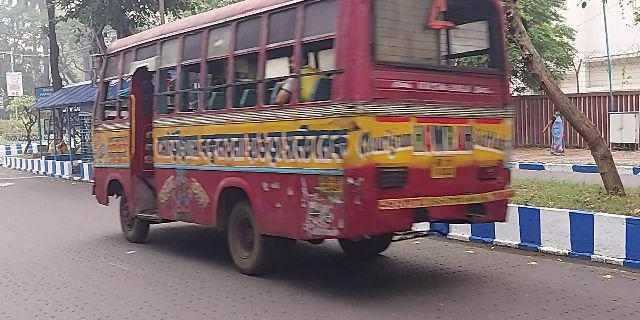Bus: (92, 1, 514, 272)
